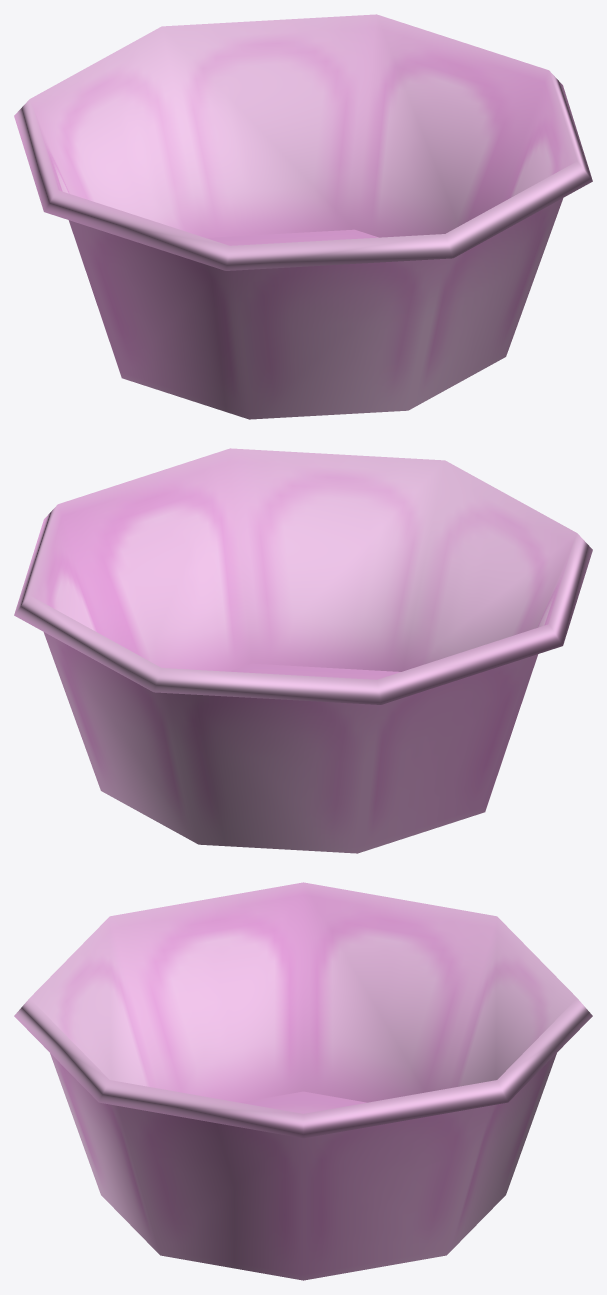
The model's file is jsf_ShavedIceCup_02.fbx.
3 views of the same model, one above another, from view 1: azimuth 30°, elevation 25°; view 2: azimuth 150°, elevation 25°; view 3: azimuth 270°, elevation 25° (orthographic). The views are drawn at different scales.
Parts seen in each view (by area): view 1: jsf_ShavedIceCup_02; view 2: jsf_ShavedIceCup_02; view 3: jsf_ShavedIceCup_02.
Boxes of the visible parts, <box> form: jsf_ShavedIceCup_02: <box>14,14,592,419</box>; jsf_ShavedIceCup_02: <box>14,448,592,853</box>; jsf_ShavedIceCup_02: <box>14,882,592,1280</box>.
Size of the model in its own units: 12 by 4.5 by 12.
